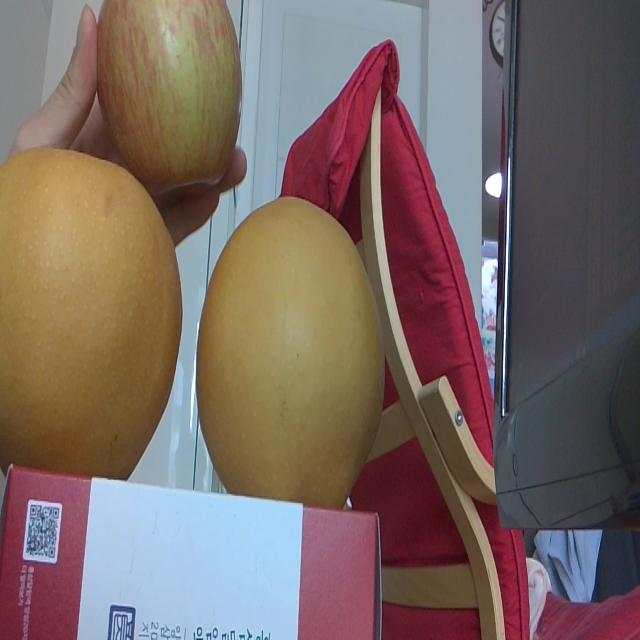apple: (93, 0, 244, 189)
pear: (0, 145, 183, 485), (195, 194, 389, 508)
